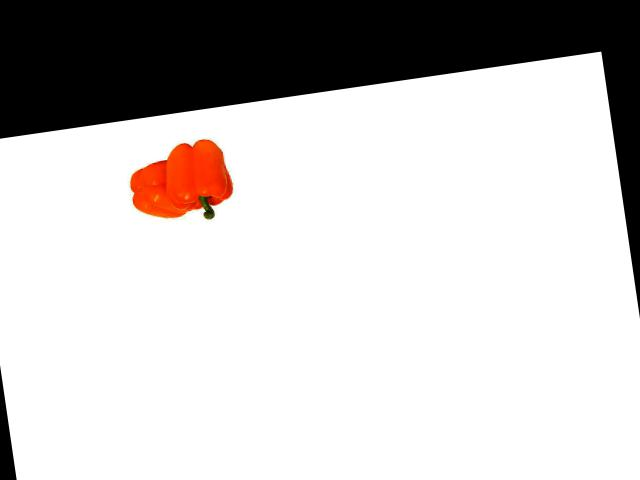bell_pepper: (121, 149, 193, 226)
